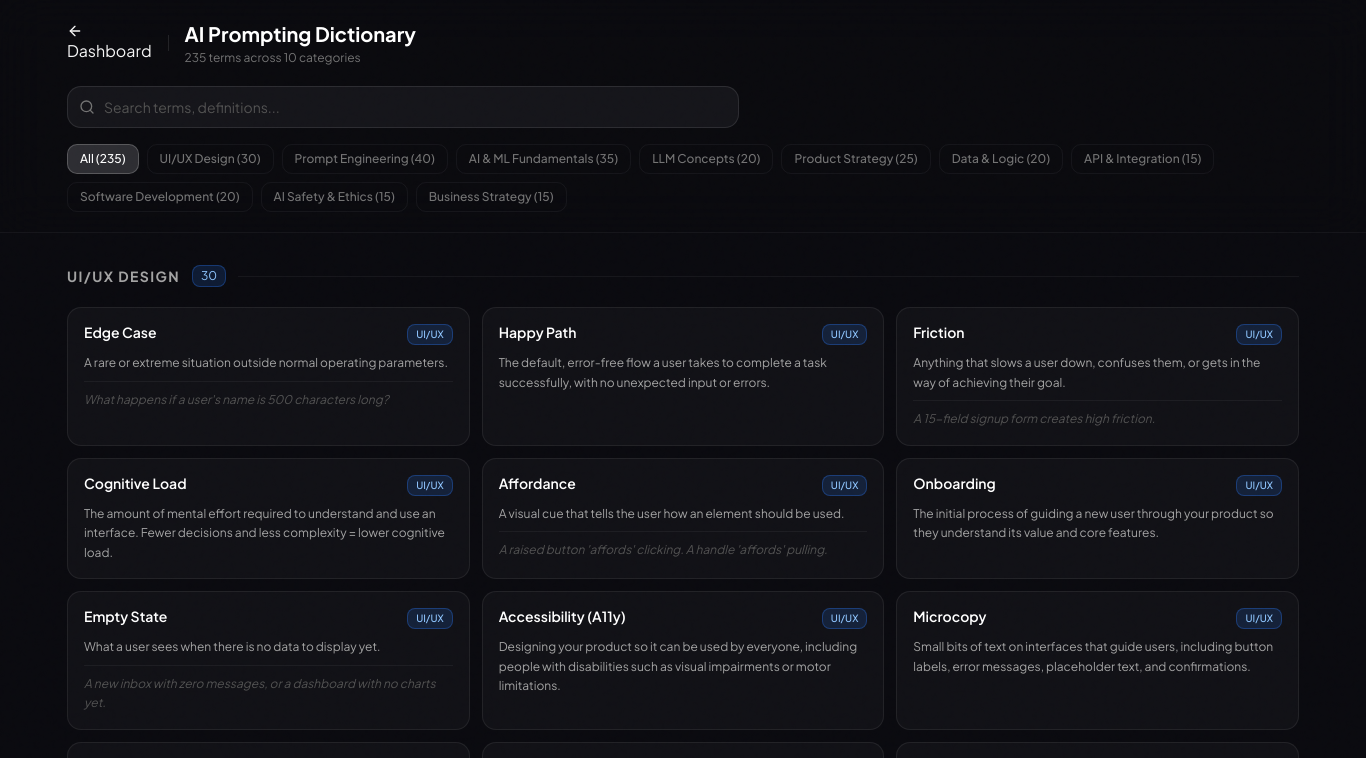
Test: AI Prompting Dictionary › empty state renders for no results › hides term cards when no results
In the field with placeholder "Search terms, definitions...": (403, 107) [67, 86, 739, 128], type "thisdoesnotexist123"
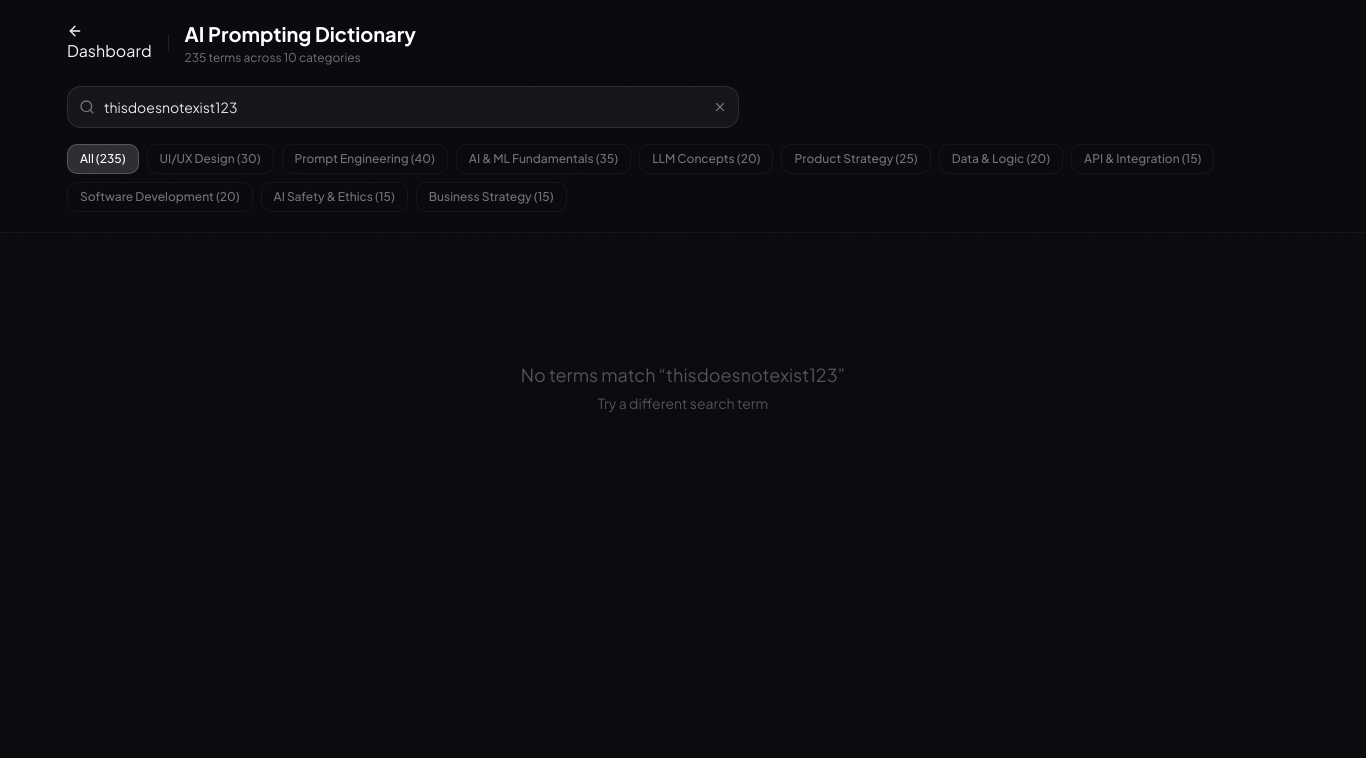
Expected: the heading "Edge Case" is gone
